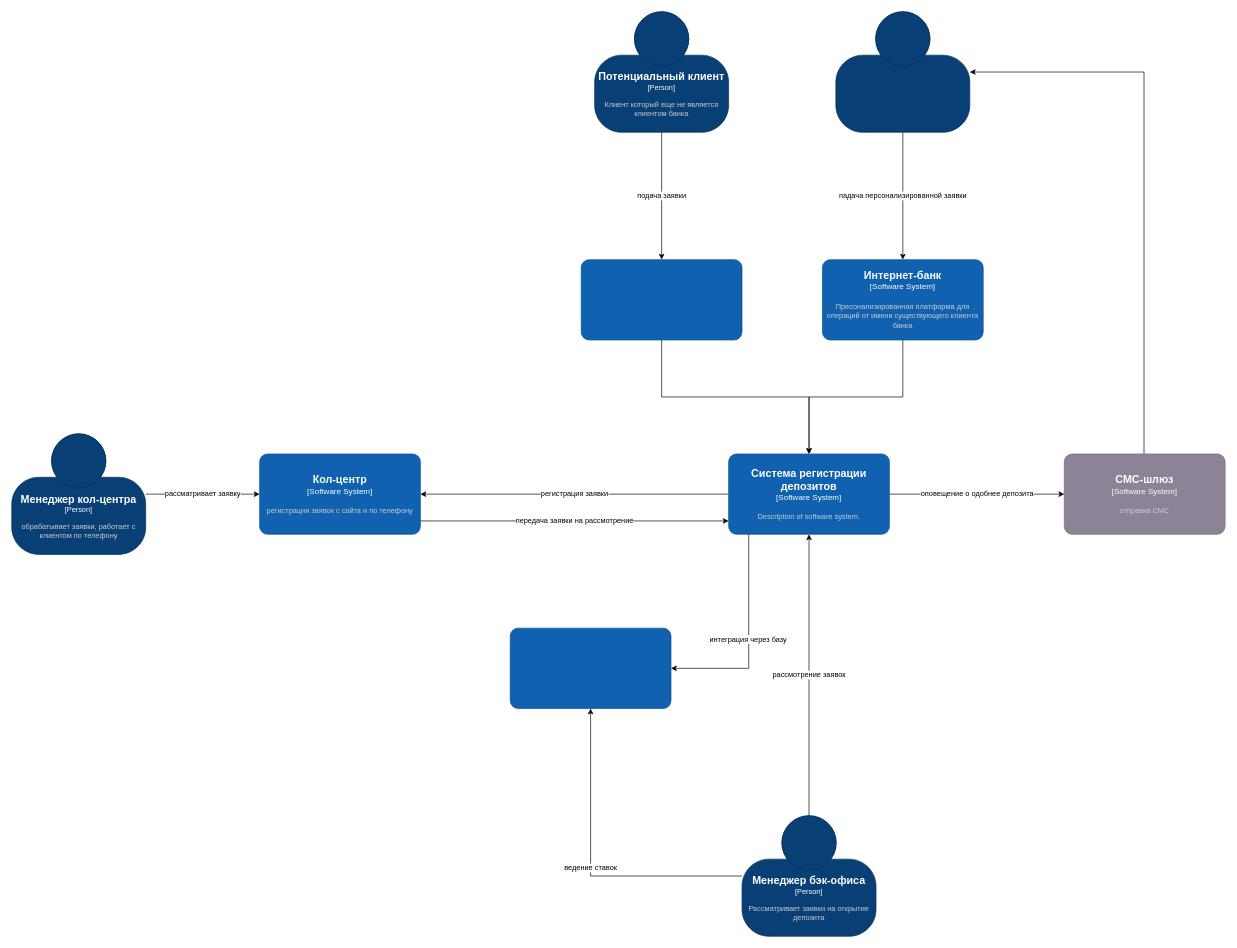
Some shapes in this 1237 by 948 pixel diagram are drawn without their labels. Each missing label, with the centre of its shape:
"АБС [Software System] Description of software system." belongs at (590,668).
"Клиент банка [Person] клиент банка которые прошел верификацию документов" belongs at (902,71).
"Сайт [Software System] функция в контексте открытия депозитов - маркетинговая" belongs at (661,299).
